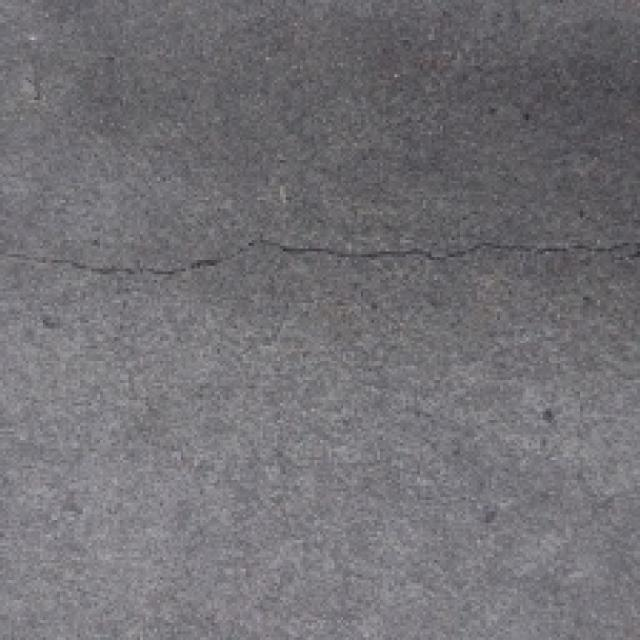crack: (0, 206, 640, 310)
